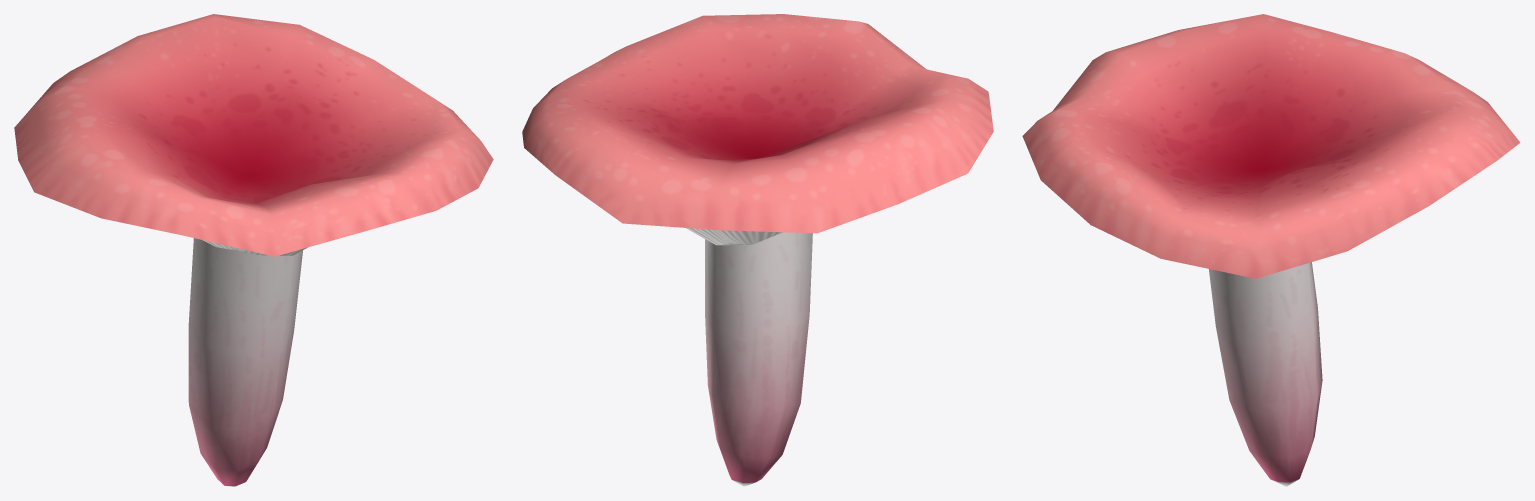
File: russula.FBX
3 renders of one model, left to right at view 1: azimuth 30°, elevation 25°; view 2: azimuth 150°, elevation 25°; view 3: azimuth 270°, elevation 25°, orthographic.
Parts seen in each view (by area): view 1: russula_pink; view 2: russula_pink; view 3: russula_pink.
Boxes of the visible parts, <box> form: russula_pink: <box>14,14,493,486</box>; russula_pink: <box>522,14,993,486</box>; russula_pink: <box>1022,14,1520,486</box>.
Bounding box in the file's own units: 0.7637 × 0.6816 × 0.7787.
Materials: 1 (1 with a texture image).
